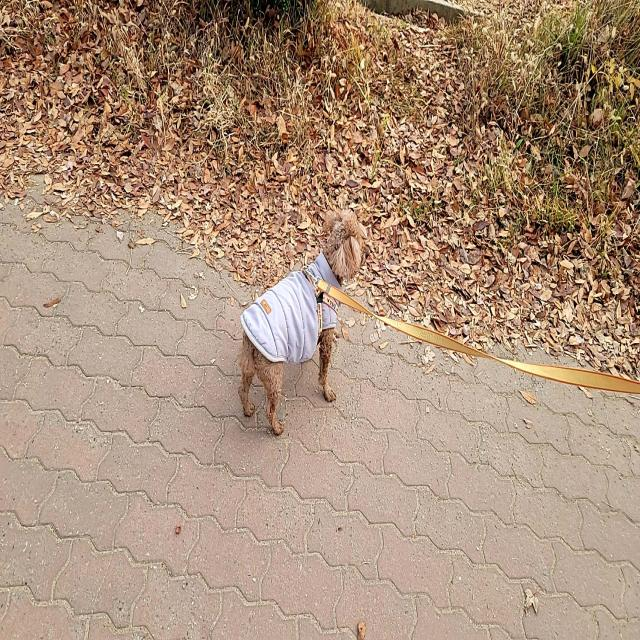Dog: (237, 212, 370, 436)
